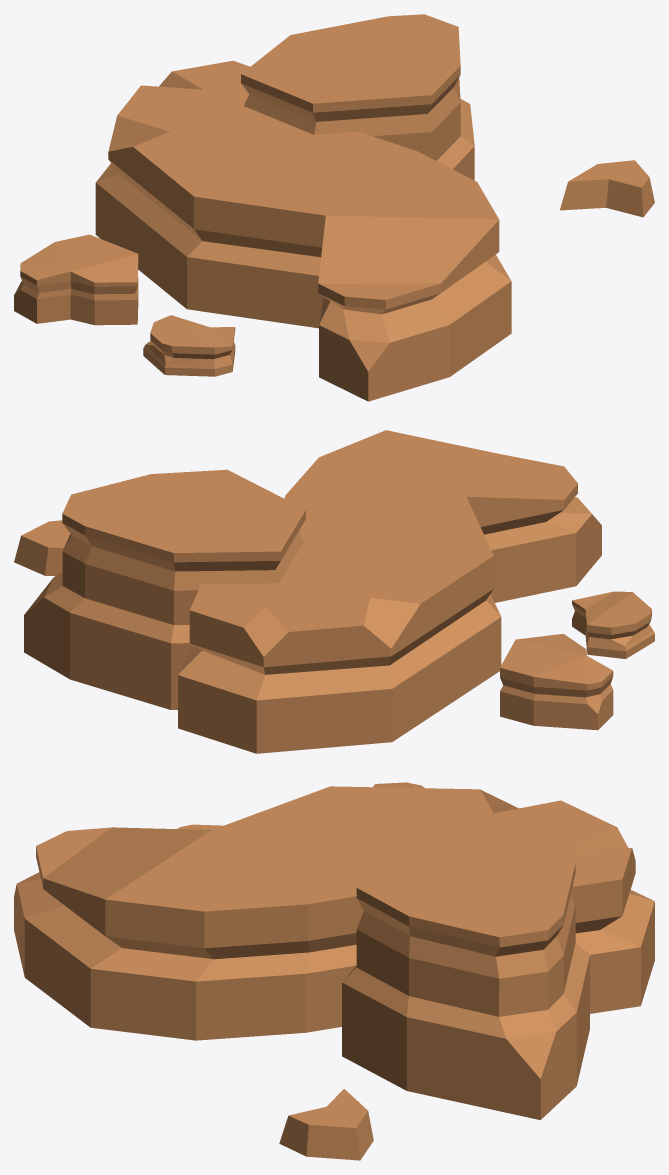
Rendered from SandRocks_M4_LOD1.fbx.
3 views of the same model, one above another, from view 1: azimuth 30°, elevation 25°; view 2: azimuth 150°, elevation 25°; view 3: azimuth 270°, elevation 25° (orthographic). The views are drawn at different scales.
Parts seen in each view (by area): view 1: 27; view 2: 27; view 3: 27.
Boxes of the visible parts, x1,y1,x2,y2 form: 27: [14, 14, 654, 401]; 27: [14, 430, 654, 753]; 27: [14, 782, 654, 1160].
Bounding box in the file's own units: 91.86 × 21.76 × 75.51.
